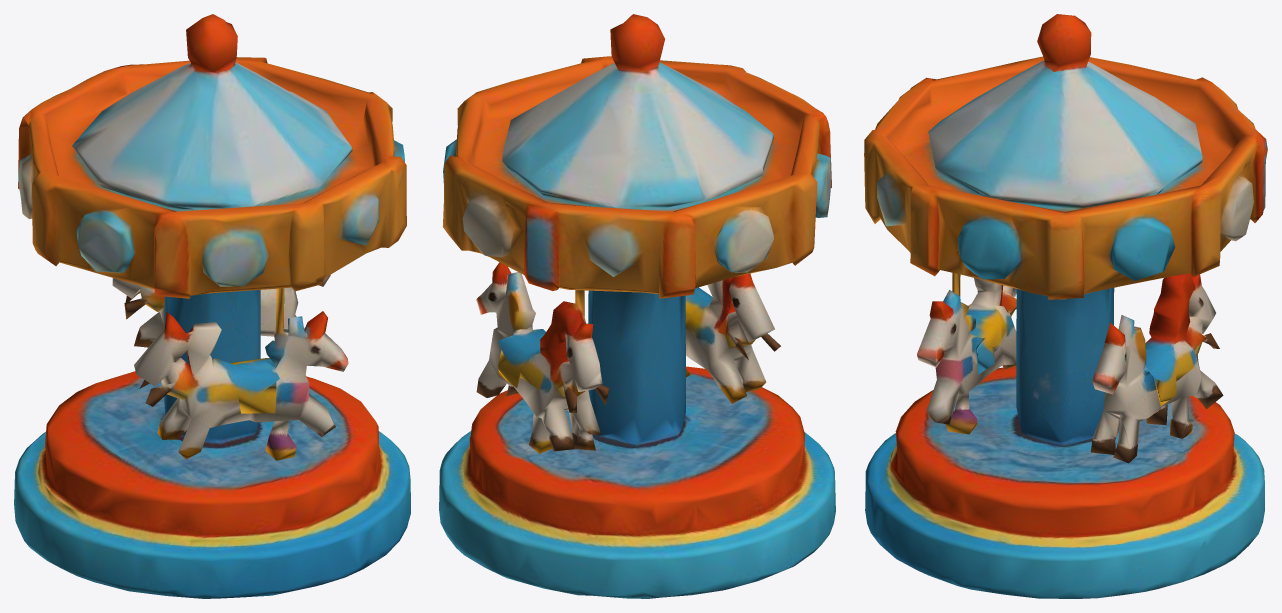
File: carousel.glb
3 views of the same model, side by side, from view 1: azimuth 30°, elevation 25°; view 2: azimuth 150°, elevation 25°; view 3: azimuth 270°, elevation 25° (orthographic).
Parts seen in each view (by area): view 1: tripo_node_c90e2b89-be99-4237-8f71-7477a196ad06; view 2: tripo_node_c90e2b89-be99-4237-8f71-7477a196ad06; view 3: tripo_node_c90e2b89-be99-4237-8f71-7477a196ad06.
Part boxes in pixels (x1=…): tripo_node_c90e2b89-be99-4237-8f71-7477a196ad06: x1=14, y1=14, x2=410, y2=598; tripo_node_c90e2b89-be99-4237-8f71-7477a196ad06: x1=439, y1=14, x2=835, y2=598; tripo_node_c90e2b89-be99-4237-8f71-7477a196ad06: x1=864, y1=14, x2=1267, y2=598.
Size of the model in its own units: 0.7285 by 1 by 0.7292.
Materials: 1 (1 with a texture image).
